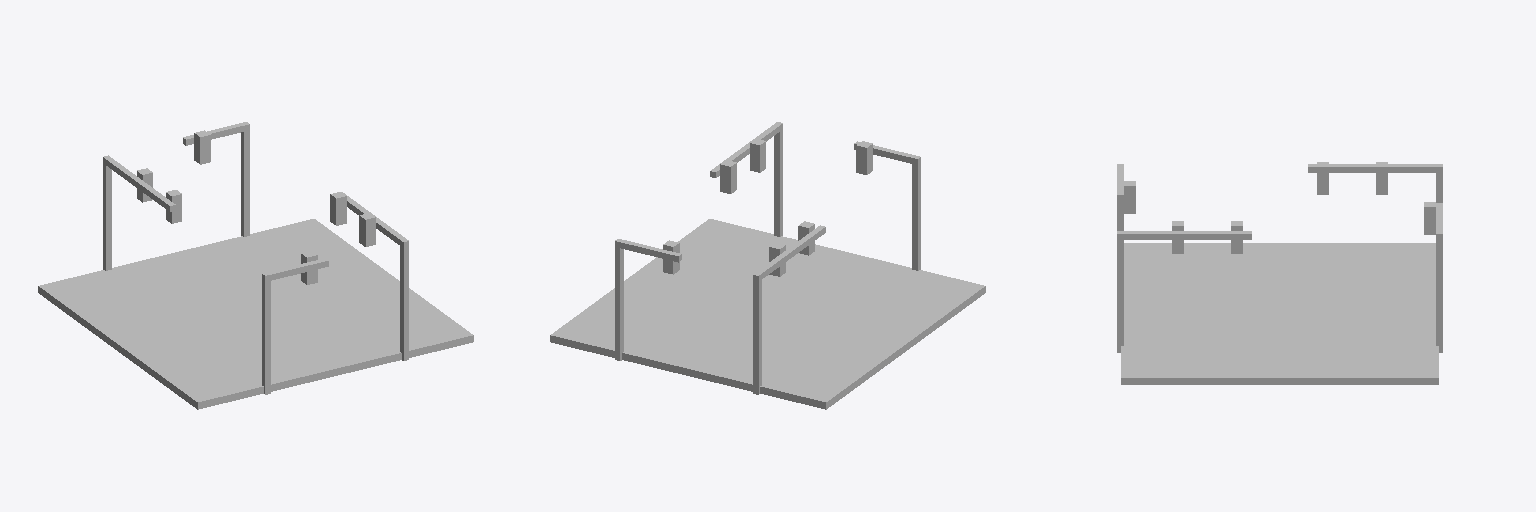
Rendered from type2_crossing_type1.obj.
3 renders of one model, left to right at view 1: azimuth 30°, elevation 25°; view 2: azimuth 150°, elevation 25°; view 3: azimuth 270°, elevation 25°, orthographic.
Visible parts, largest first — view 1: Plane, Cube.007, Cube.003_Cube.010, Cube.009_Cube.005, Cube.004_Cube.009; view 2: Plane, Cube.007, Cube.003_Cube.010, Cube.004_Cube.009, Cube.009_Cube.005; view 3: Plane, Cube.007, Cube.003_Cube.010, Cube.004_Cube.009, Cube.009_Cube.005.
Part boxes in pixels (x1,y1,x2,y2): Plane: (38, 219, 473, 409); Cube.007: (330, 192, 408, 360); Cube.003_Cube.010: (103, 155, 181, 270); Cube.009_Cube.005: (262, 251, 328, 394); Cube.004_Cube.009: (183, 122, 249, 236); Plane: (550, 219, 985, 409); Cube.007: (710, 122, 782, 236); Cube.003_Cube.010: (753, 221, 825, 394); Cube.004_Cube.009: (615, 239, 681, 360); Cube.009_Cube.005: (854, 141, 920, 270); Plane: (1121, 243, 1438, 384); Cube.007: (1117, 221, 1251, 352); Cube.003_Cube.010: (1308, 162, 1442, 202); Cube.004_Cube.009: (1424, 202, 1442, 352); Cube.009_Cube.005: (1117, 164, 1135, 230).
Bounding box in the file's own units: 4 × 1.71 × 4.08.